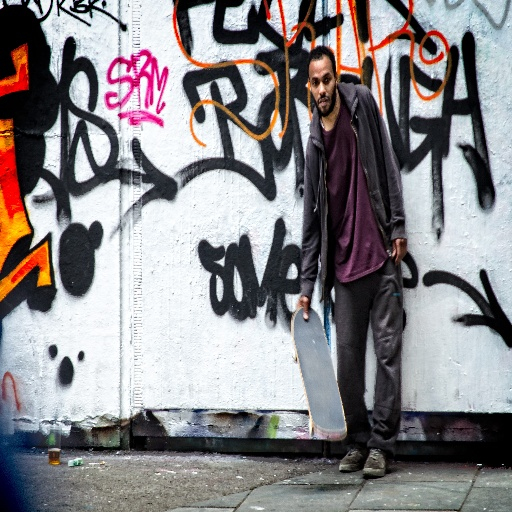hand: (296, 294, 312, 321), (391, 239, 409, 262)
